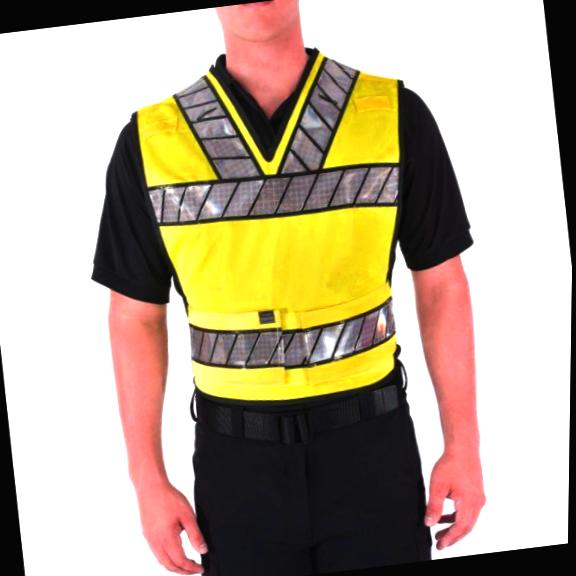safety_vest: (120, 35, 442, 418)
